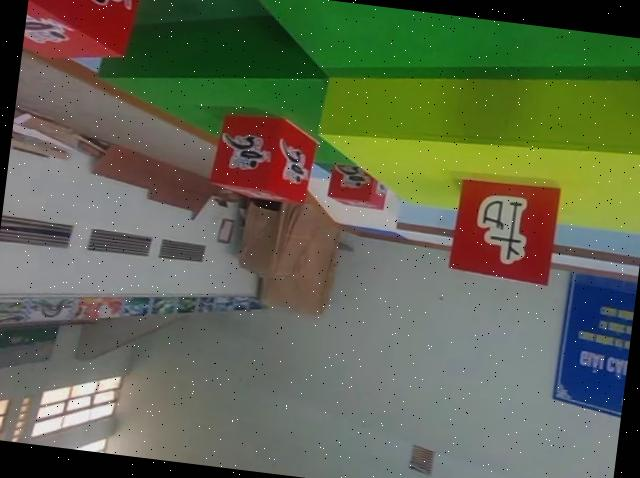R1: (205, 102, 318, 210), (19, 0, 150, 72), (321, 158, 392, 213)
R2 Real: (444, 169, 564, 288)
